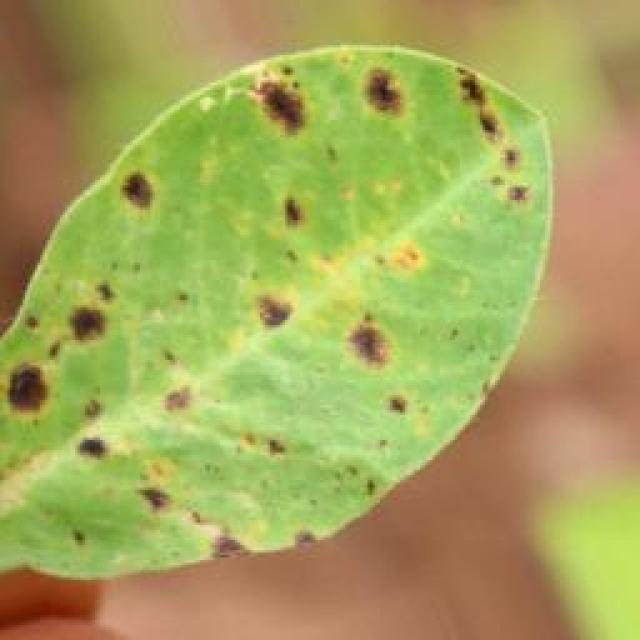Yellowish: (0, 42, 538, 571)
